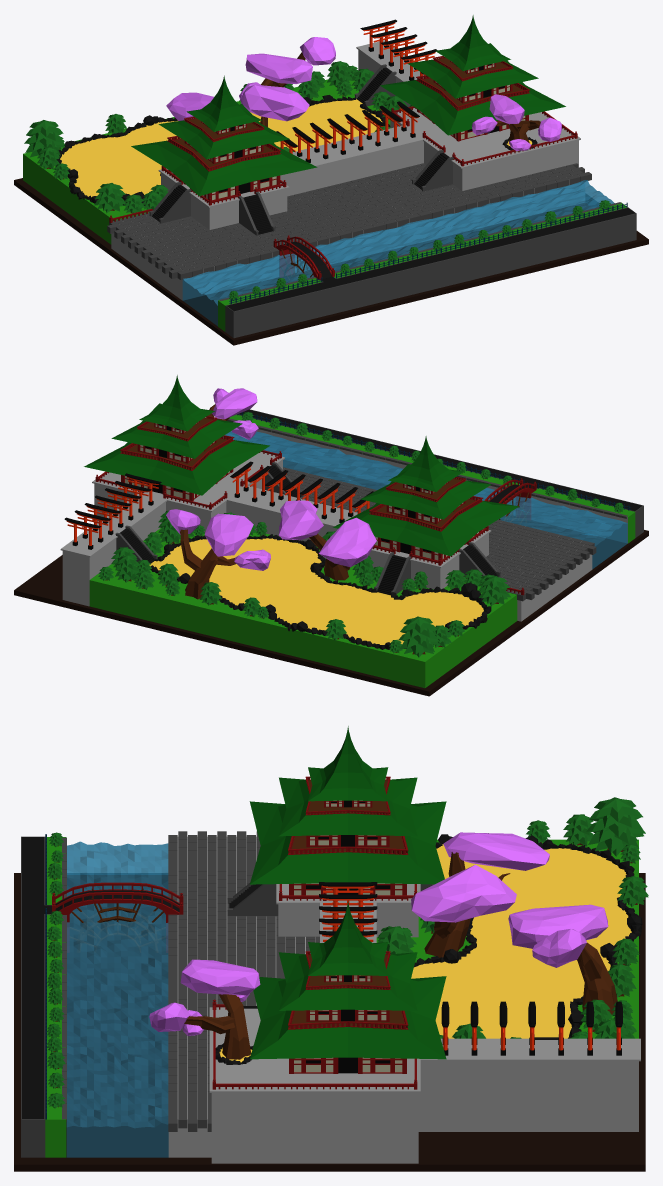
Rendered from Japan Land.fbx.
The picture shows the model from 3 angles, top to bottom: view 1: azimuth 30°, elevation 25°; view 2: azimuth 150°, elevation 25°; view 3: azimuth 270°, elevation 25°; orthographic projection. The views are drawn at different scales.
Visible parts, largest first — view 1: Bricks004, Land, Podium, Water, Temple 1, Temple 2, Dirt, Sand, Grass, Sphere035, Sphere060, GeoSphere006 (+12 smaller); view 2: Grass, Sand, Podium, Temple 2, Temple 1, Dirt, Water, Land, Bricks004, Sphere035, GeoSphere001, GeoSphere005 (+12 smaller); view 3: Podium, Dirt, Water, Temple 2, Temple 1, Sand, Bricks004, Land, Sphere035, Sphere060, GeoSphere006, GeoSphere005 (+14 smaller).
Boxes of the visible parts, box(x1,y1,x2,y2) form: Bricks004: box(107, 163, 591, 279); Land: box(111, 169, 636, 338); Podium: box(158, 40, 580, 229); Water: box(182, 180, 614, 325); Temple 1: box(131, 75, 317, 200); Temple 2: box(380, 15, 565, 141); Dirt: box(14, 178, 648, 345); Sand: box(60, 99, 382, 197); Grass: box(23, 79, 390, 244); Sphere035: box(239, 37, 335, 103); Sphere060: box(472, 94, 561, 151); GeoSphere006: box(241, 85, 309, 121); Grass: box(89, 527, 517, 688); Sand: box(149, 538, 483, 644); Podium: box(60, 452, 491, 606); Temple 2: box(84, 375, 269, 500); Temple 1: box(333, 436, 518, 560); Dirt: box(14, 460, 648, 696); Water: box(223, 431, 627, 568); Land: box(229, 409, 643, 621); Bricks004: box(283, 467, 596, 601); Sphere035: box(166, 509, 270, 599); GeoSphere001: box(150, 534, 491, 649); GeoSphere005: box(319, 517, 376, 567); Podium: box(209, 884, 640, 1163); Dirt: box(14, 873, 645, 1171); Water: box(66, 841, 168, 1157); Temple 2: box(250, 900, 446, 1073); Temple 1: box(249, 726, 446, 899); Sand: box(411, 844, 631, 1038); Bricks004: box(168, 831, 319, 1131); Land: box(21, 836, 315, 1157); Sphere035: box(508, 904, 617, 1014); Sphere060: box(149, 959, 260, 1064); GeoSphere006: box(411, 864, 516, 922); GeoSphere005: box(443, 832, 549, 870).
Bounding box in the file's own units: 708 × 257 × 644.
